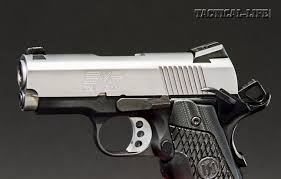gun: (16, 44, 247, 178)
